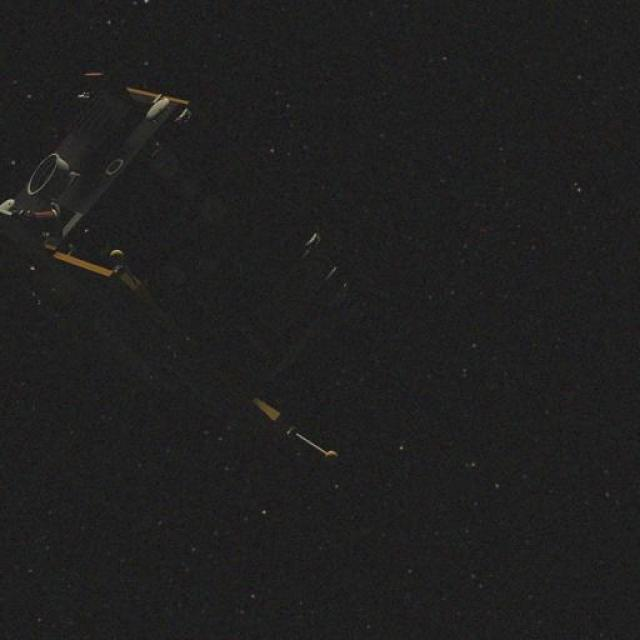proba_2: (46, 74, 418, 476)
